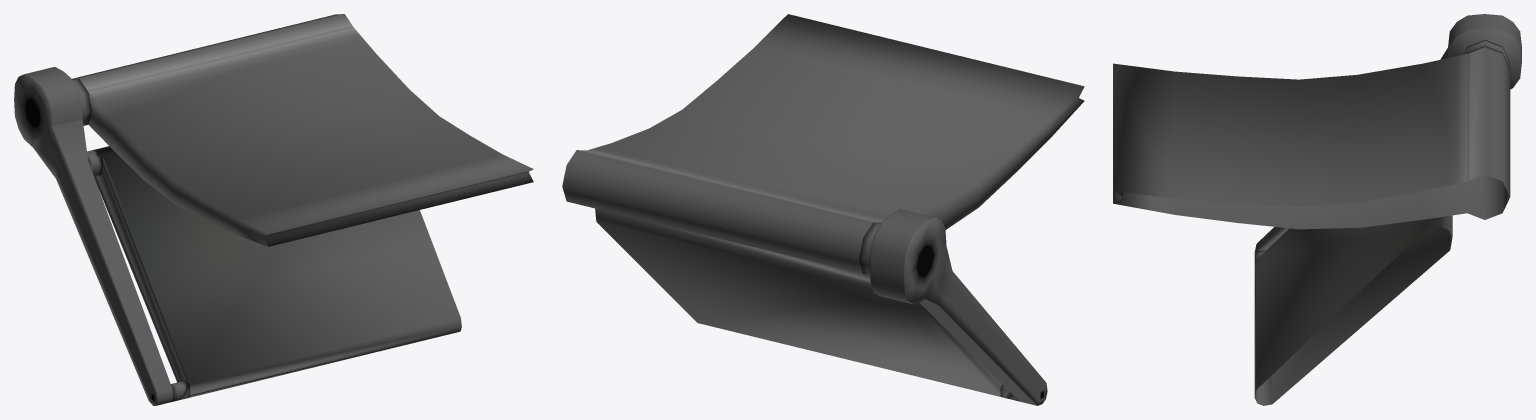
File: tiles_prison_couch_0.glb
3 views of the same model, side by side, from view 1: azimuth 30°, elevation 25°; view 2: azimuth 150°, elevation 25°; view 3: azimuth 270°, elevation 25° (orthographic). The views are drawn at different scales.
Visible parts, largest first — view 1: PrisonCouch0; view 2: PrisonCouch0; view 3: PrisonCouch0.
Part boxes in pixels (<box>): PrisonCouch0: <box>14,14,533,405</box>; PrisonCouch0: <box>562,14,1084,405</box>; PrisonCouch0: <box>1113,14,1521,405</box>.
Bounding box in the file's own units: 2 × 1.51 × 2.31.
1 material, 1 textured.
